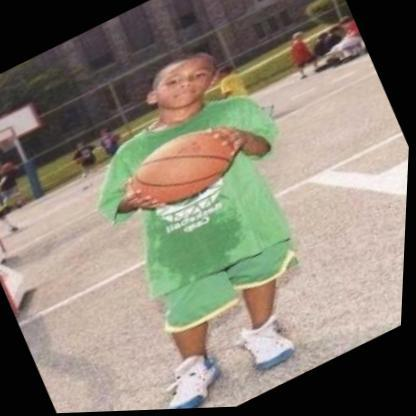basketball: (118, 111, 253, 220)
